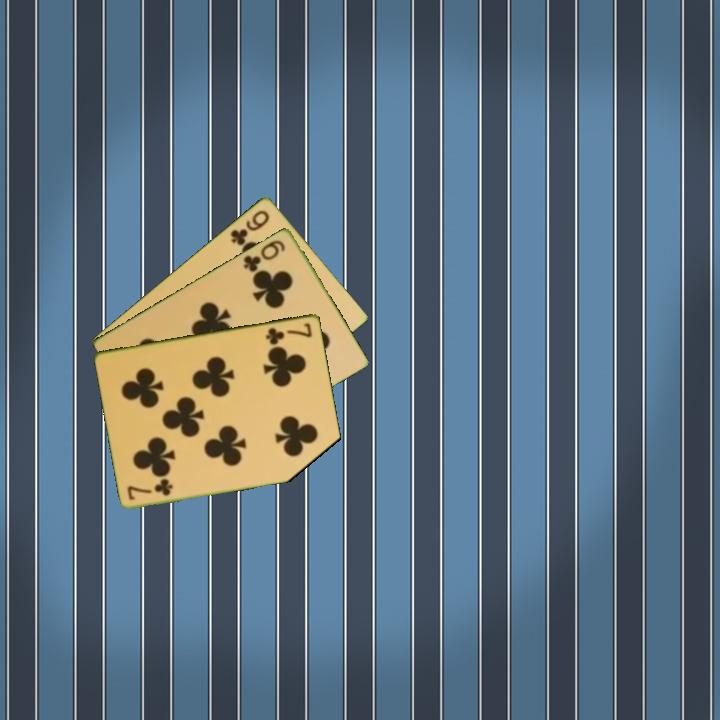6c: (240, 236, 288, 275)
7c: (263, 319, 315, 347), (124, 476, 176, 502)
9c: (227, 206, 273, 248)
